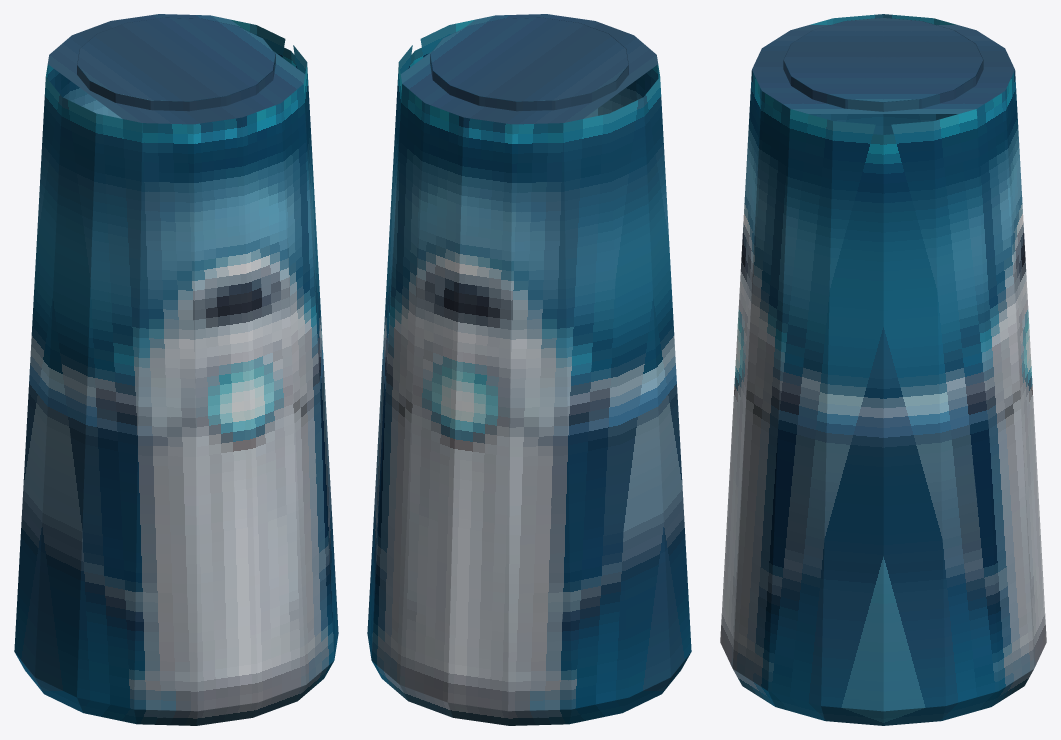
Rendered from cryopod.obj.
3 renders of one model, left to right at view 1: azimuth 30°, elevation 25°; view 2: azimuth 150°, elevation 25°; view 3: azimuth 270°, elevation 25°, orthographic.
Size of the model in its own units: 0.4602 by 0.9352 by 0.4602.
